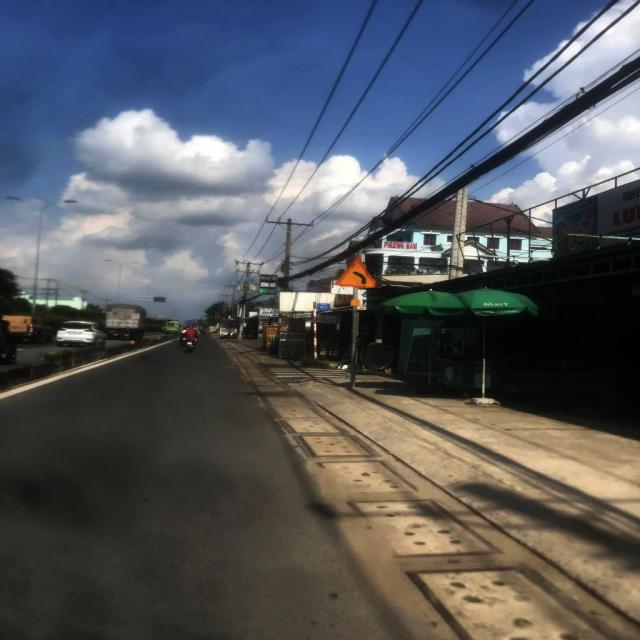cho_ngoat_nguy_hiem_ben_trai: (330, 255, 382, 288)
